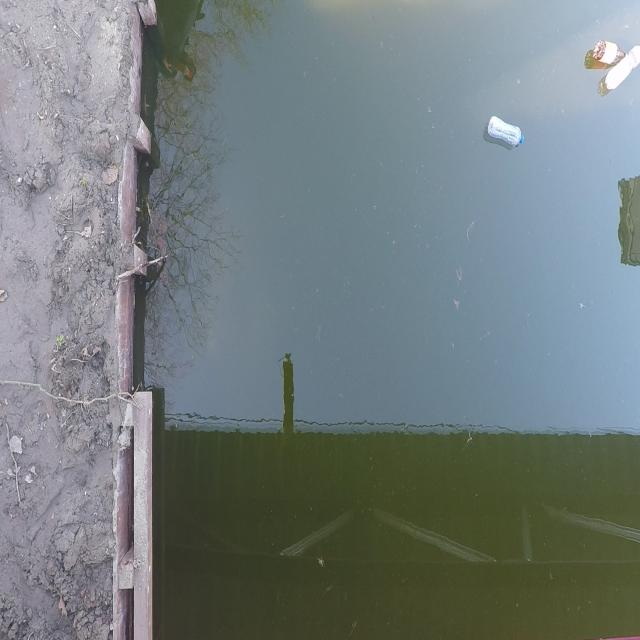Bouteille plastique: (605, 46, 640, 91), (488, 118, 523, 147), (594, 40, 627, 62)
